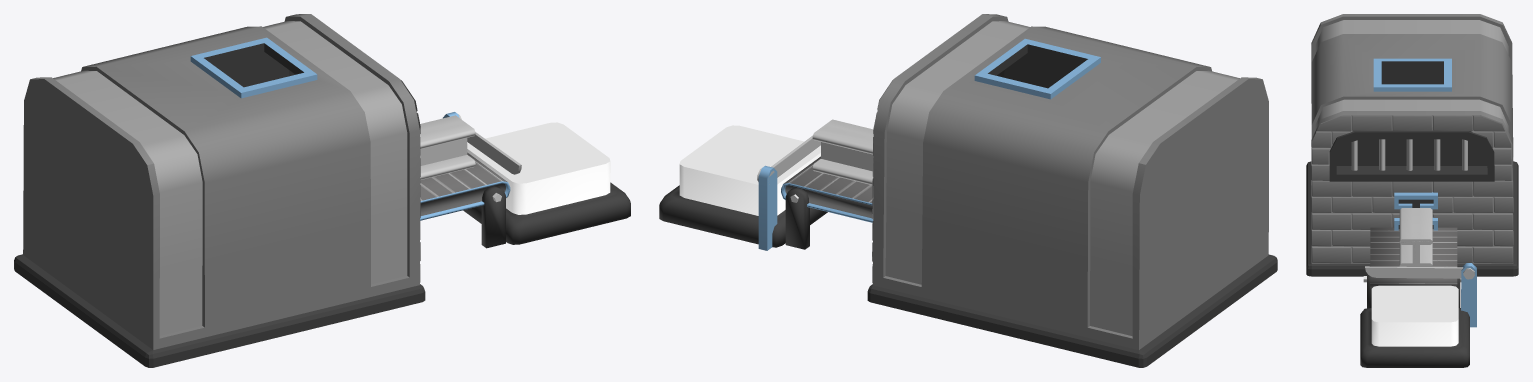
Rendered from Oven_Scrap 1.fbx.
3 views of the same model, side by side, from view 1: azimuth 30°, elevation 25°; view 2: azimuth 150°, elevation 25°; view 3: azimuth 270°, elevation 25° (orthographic). The views are drawn at different scales.
Visible parts, largest first — view 1: Oven_base, Oven_table, Oven_band, Iron_soft, Iron_hard, Knife; view 2: Oven_base, Oven_table, Oven_band, Iron_soft, Iron_hard, Knife_base, Knife; view 3: Oven_base, Oven_table, Oven_band, Iron_soft, Knife, Iron_hard, Knife_base.
Boxes of the visible parts, x1,y1,x2,y2 form: Oven_base: (14, 14, 425, 367); Oven_table: (463, 122, 630, 244); Oven_band: (420, 152, 510, 248); Iron_soft: (420, 116, 473, 179); Iron_hard: (420, 115, 475, 179); Knife: (467, 132, 521, 174); Oven_base: (867, 14, 1277, 367); Oven_table: (659, 125, 827, 247); Oven_band: (781, 156, 873, 249); Iron_soft: (814, 120, 873, 184); Iron_hard: (812, 119, 873, 184); Knife_base: (758, 165, 777, 250); Knife: (771, 135, 820, 177); Oven_base: (1306, 14, 1518, 276); Oven_table: (1360, 285, 1469, 367); Oven_band: (1363, 227, 1461, 308); Iron_soft: (1399, 208, 1432, 265); Knife: (1365, 266, 1463, 278); Iron_hard: (1399, 208, 1432, 266); Knife_base: (1461, 263, 1476, 327).
Size of the model in its own units: 536 by 208 by 244.
